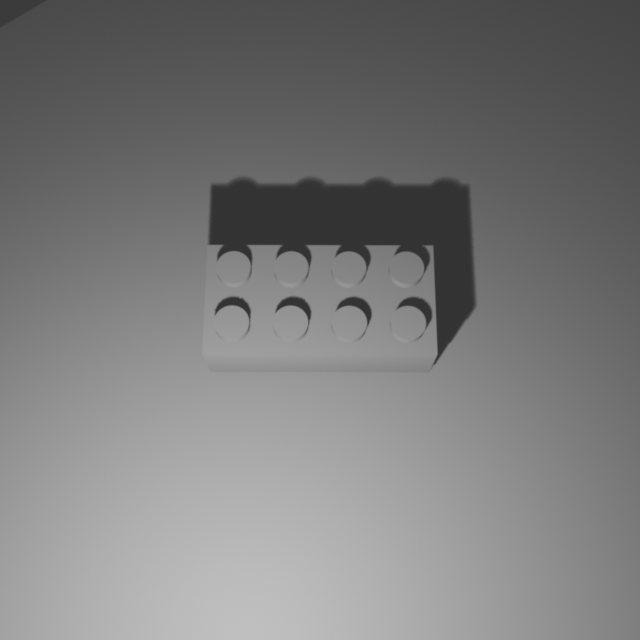lego_2x4: (201, 241, 439, 372)
